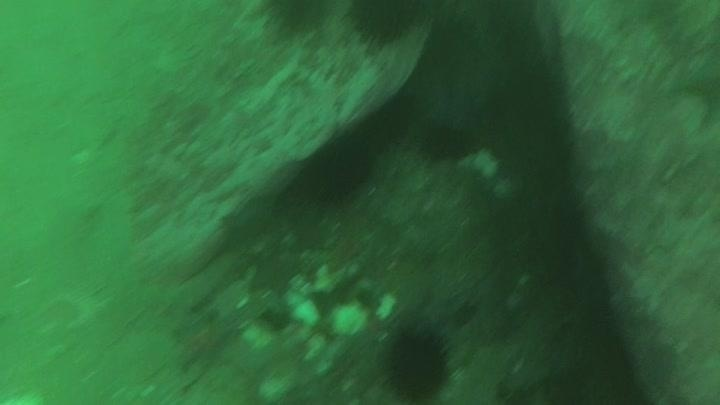echinus: (379, 322, 457, 403), (300, 134, 376, 206), (345, 1, 425, 48), (258, 1, 337, 36), (417, 119, 476, 164)
starfish: (170, 309, 238, 371)
